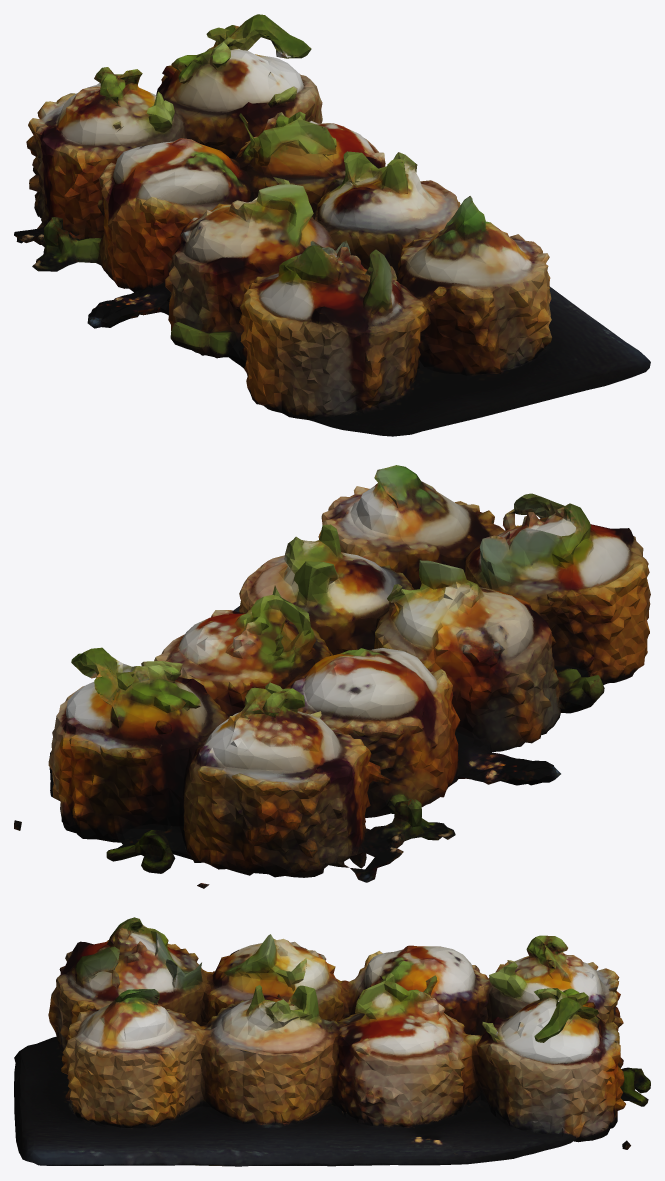
The model's file is Hot-Philadelfia.glb.
3 renders of one model, top to bottom at view 1: azimuth 30°, elevation 25°; view 2: azimuth 150°, elevation 25°; view 3: azimuth 270°, elevation 25°, orthographic. The views are drawn at different scales.
Visible parts, largest first — view 1: world; view 2: world; view 3: world.
Part boxes in pixels (x1,y1,x2,y2): world: (14,14,650,436); world: (14,465,650,888); world: (14,917,650,1166).
Size of the model in its own units: 0.6199 by 0.246 by 0.9997.
1 material, 1 textured.
